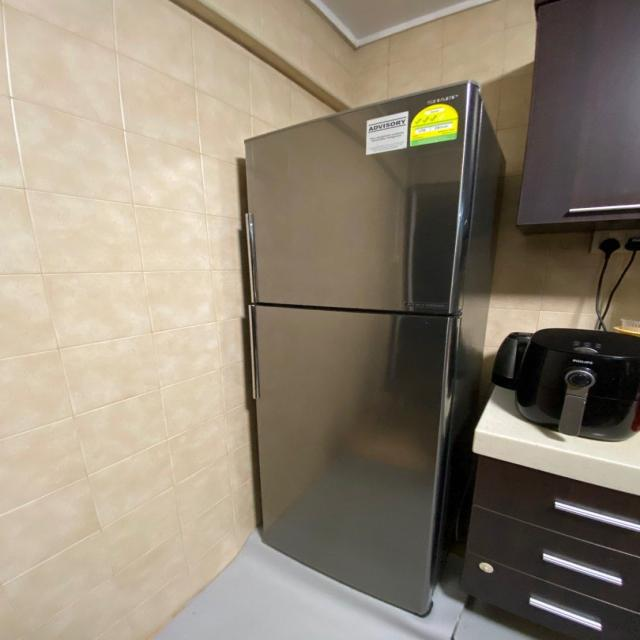refrigerator: (244, 80, 482, 616)
